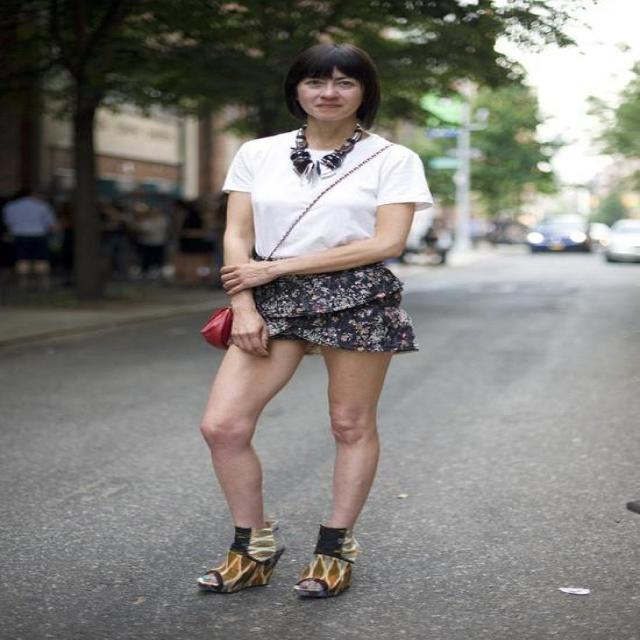Tshirt: (222, 121, 434, 265)
skirt: (232, 256, 420, 357)
